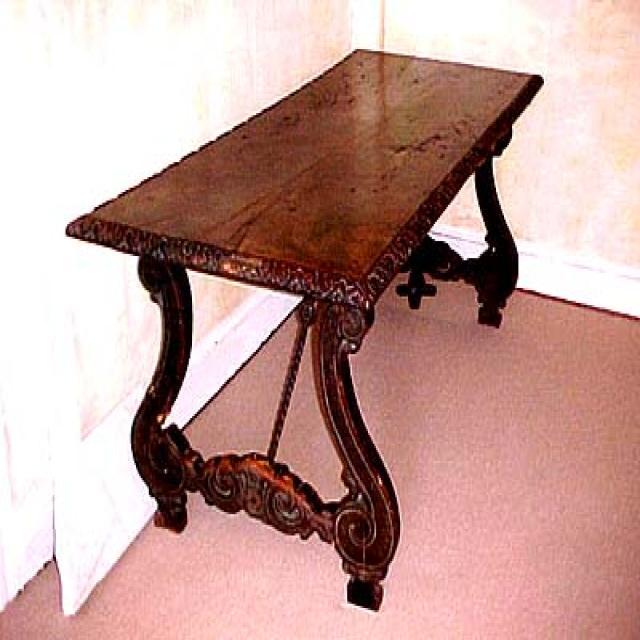table: (66, 46, 546, 614)
